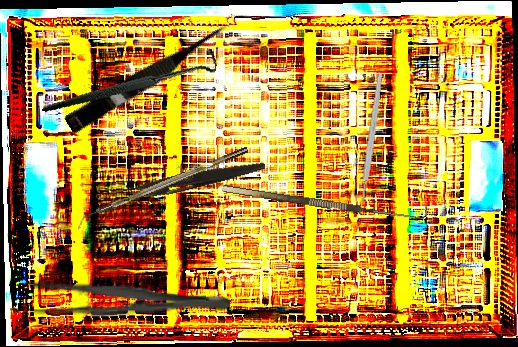Chopper: (72, 146, 253, 231)
Dressing Forceps: (9, 279, 231, 321), (109, 153, 267, 210)
Hook Surgical: (42, 15, 220, 147), (221, 173, 429, 225)
Micro Scissor: (63, 18, 235, 139)
Scalpel Handle: (358, 72, 385, 203)
